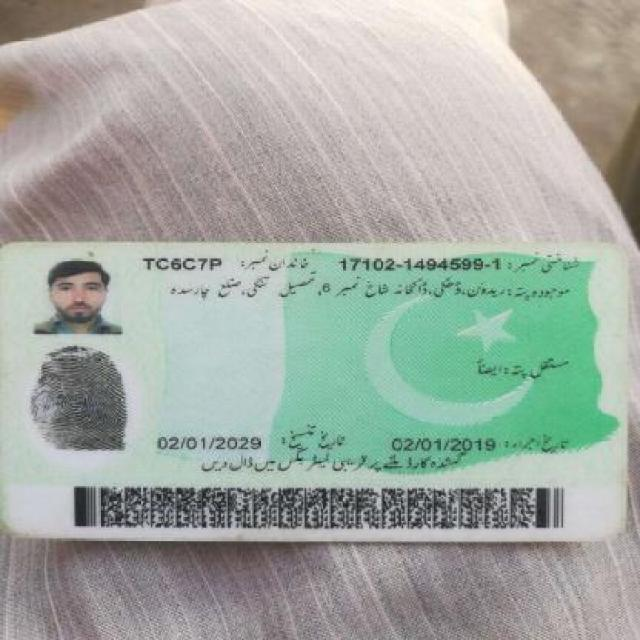Back: (8, 243, 629, 542)
